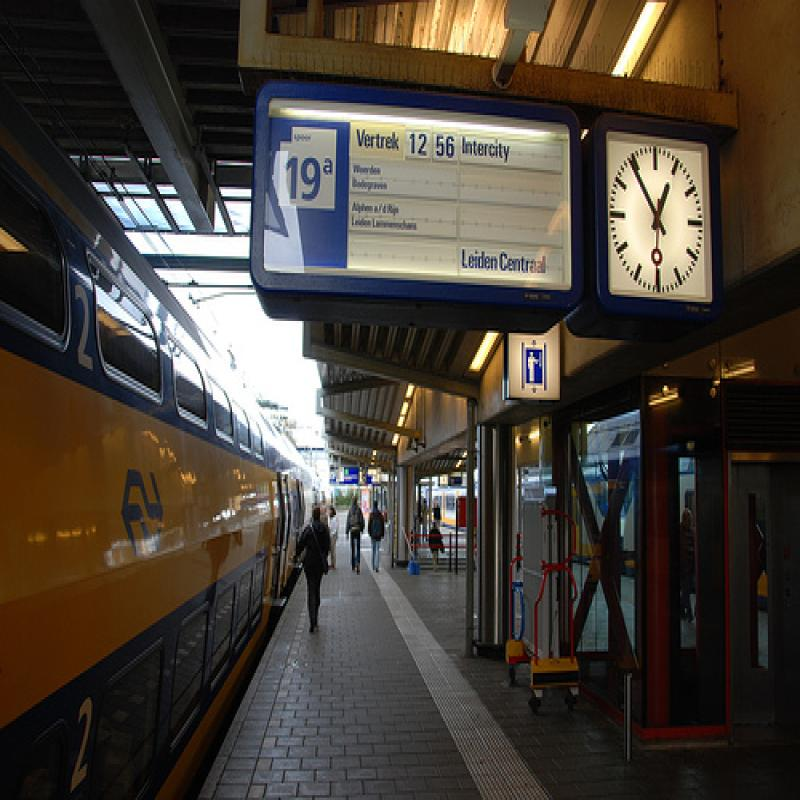train: (3, 59, 326, 799), (518, 408, 771, 607), (420, 485, 475, 530)
